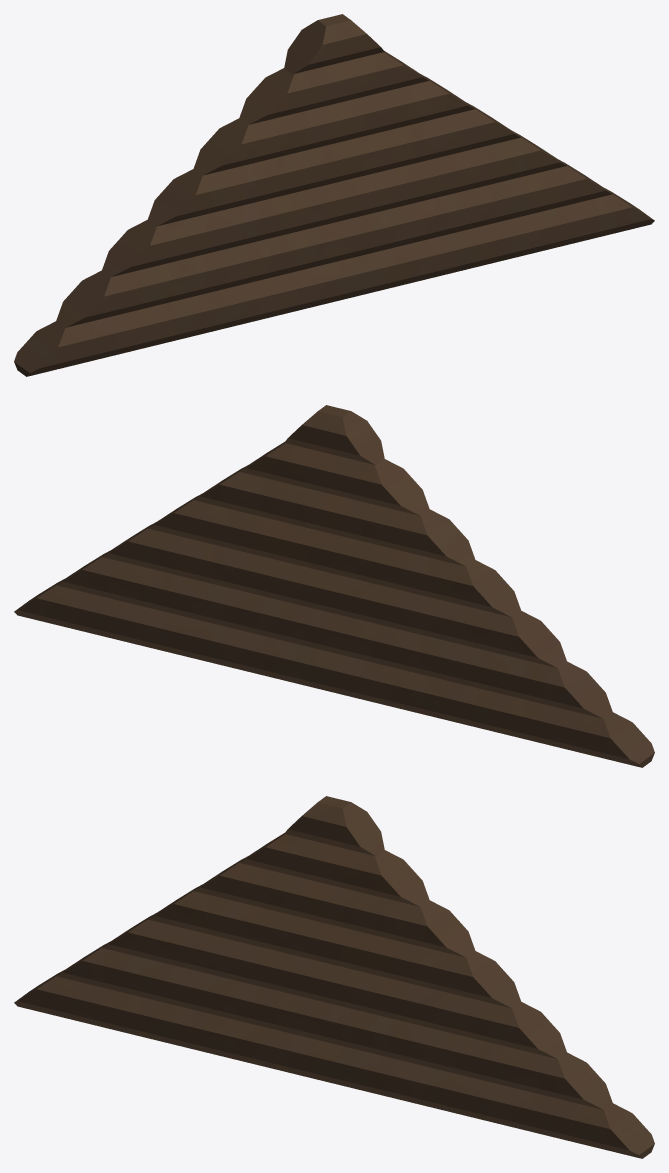
File: cabin_Wall_Pointed.obj
3 renders of one model, top to bottom at view 1: azimuth 30°, elevation 25°; view 2: azimuth 150°, elevation 25°; view 3: azimuth 330°, elevation 25°, orthographic.
Parts seen in each view (by area): view 1: cabin_Wall_Pointed; view 2: cabin_Wall_Pointed; view 3: cabin_Wall_Pointed.
Boxes of the visible parts, left/top/right/bottom form: cabin_Wall_Pointed: left=14, top=14, right=654, bottom=376; cabin_Wall_Pointed: left=14, top=405, right=654, bottom=767; cabin_Wall_Pointed: left=14, top=796, right=654, bottom=1158.
Bounding box in the file's own units: 8.92 × 3.78 × 0.5428.
